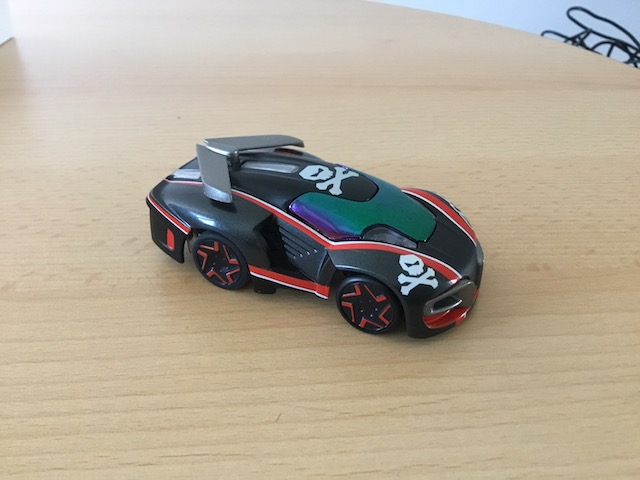car-red: (138, 128, 486, 344)
